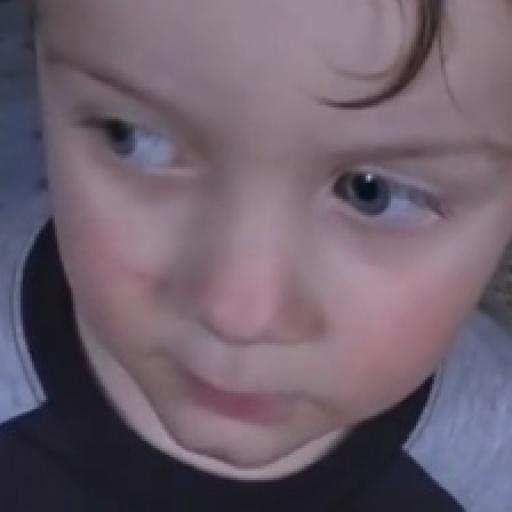Autism: (37, 35, 511, 496)
